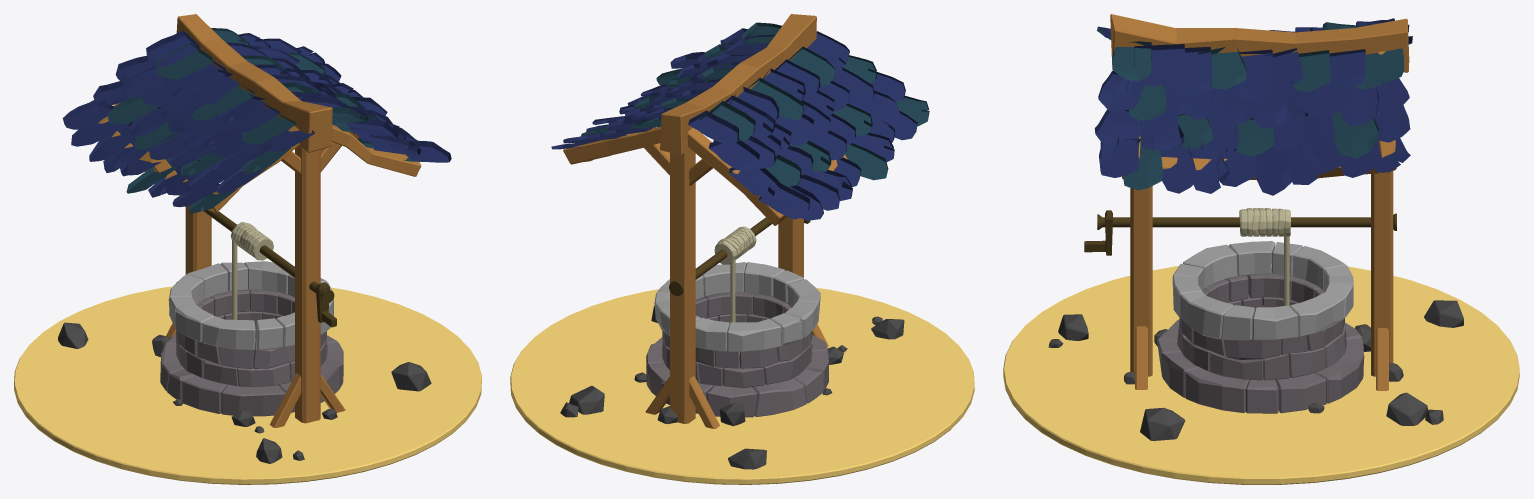
File: well.gltf
3 renders of one model, left to right at view 1: azimuth 30°, elevation 25°; view 2: azimuth 150°, elevation 25°; view 3: azimuth 270°, elevation 25°, orthographic. The views are drawn at different scales.
Visible parts, largest first — view 1: Cylinder.003, Plane.001, Cube.018, Cube.003, Cube, Cube.002, Cube.001, Cylinder, Cylinder.001, Icosphere.006, Icosphere.013, Icosphere.008; view 2: Cylinder.003, Plane.001, Cube.018, Cube.003, Cube, Cube.002, Cube.001, Cylinder.001, Cylinder, Icosphere.003, Icosphere.013, Icosphere.008 (+1 smaller); view 3: Cylinder.003, Plane.001, Cube.018, Cube.003, Cube, Cube.002, Cube.001, Cylinder, Cylinder.001, Icosphere.006, Icosphere.003, Icosphere.013 (+1 smaller).
Boxes of the visible parts, x1,y1,x2,y2 form: Cylinder.003: (14, 286, 481, 484); Plane.001: (62, 28, 451, 213); Cube.018: (98, 14, 421, 427); Cube.003: (168, 261, 333, 350); Cube: (160, 331, 343, 416); Cube.002: (176, 289, 326, 368); Cube.001: (176, 310, 327, 386); Cylinder: (203, 209, 336, 327); Cylinder.001: (230, 222, 273, 260); Icosphere.006: (391, 362, 431, 391); Icosphere.013: (58, 322, 88, 348); Icosphere.008: (256, 438, 282, 463); Cylinder.003: (510, 287, 974, 484); Plane.001: (551, 22, 929, 220); Cube.018: (563, 14, 847, 428); Cube.003: (654, 262, 820, 351); Cube: (646, 334, 828, 417); Cube.002: (662, 291, 812, 368); Cube.001: (662, 314, 812, 387); Cylinder.001: (714, 226, 756, 264); Cylinder: (669, 217, 810, 296); Icosphere.003: (569, 385, 604, 414); Icosphere.013: (728, 448, 766, 469); Icosphere.008: (871, 319, 904, 339); Cylinder.003: (1003, 264, 1519, 484); Plane.001: (1094, 18, 1412, 195); Cube.018: (1110, 14, 1409, 390); Cube.003: (1172, 241, 1353, 340); Cube: (1157, 319, 1364, 413); Cube.002: (1179, 268, 1344, 359); Cube.001: (1177, 294, 1346, 380); Cylinder: (1084, 210, 1396, 255); Cylinder.001: (1239, 208, 1290, 236); Icosphere.006: (1140, 407, 1185, 440); Icosphere.003: (1386, 392, 1427, 425); Icosphere.013: (1424, 300, 1463, 327).
Bounding box in the file's own units: 40.03 × 31.31 × 40.11.
